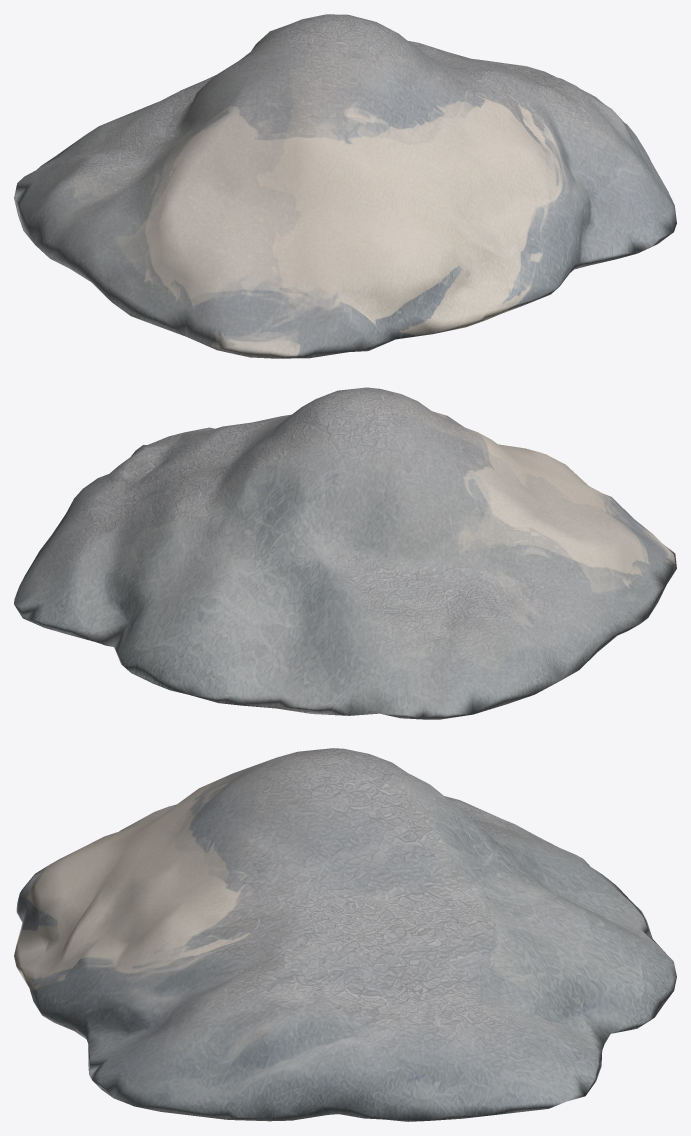
File: PR_SnowDrift.fbx
3 views of the same model, one above another, from view 1: azimuth 30°, elevation 25°; view 2: azimuth 150°, elevation 25°; view 3: azimuth 270°, elevation 25° (orthographic). The views are drawn at different scales.
Visible parts, largest first — view 1: texture_mapping; view 2: texture_mapping; view 3: texture_mapping.
Boxes of the visible parts, box(x1,y1,x2,y2) form: texture_mapping: box(14, 14, 676, 358); texture_mapping: box(14, 387, 676, 719); texture_mapping: box(14, 748, 676, 1121).
Bounding box in the file's own units: 1 × 0.9685 × 0.3656.
Materials: 1 (1 with a texture image).
